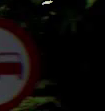No overtake: (0, 18, 42, 105)
